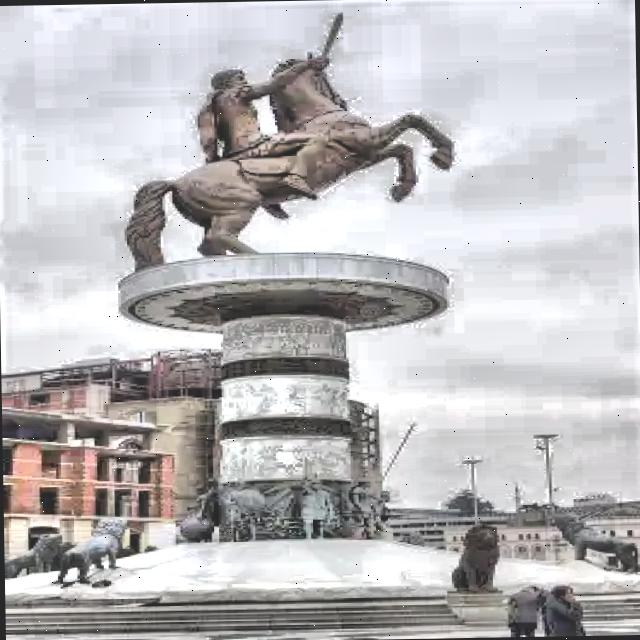alexander the great monument: (110, 6, 462, 555)
